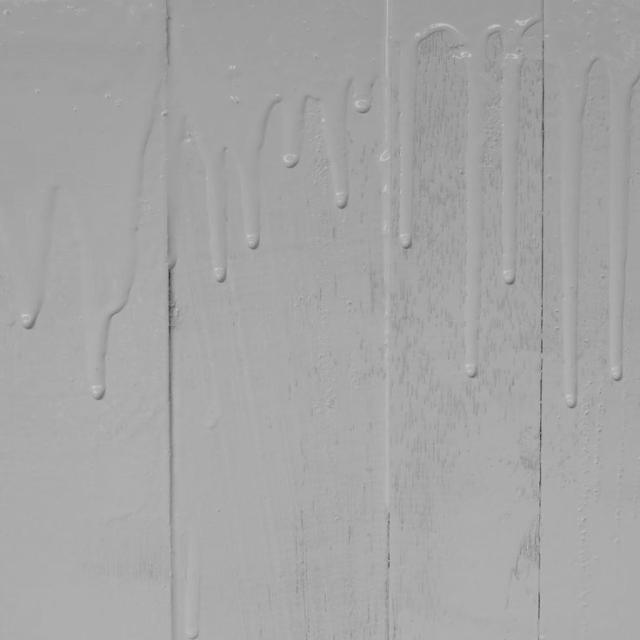paint drips: (391, 11, 541, 384), (3, 75, 158, 432), (164, 58, 385, 296), (544, 40, 639, 416), (174, 530, 214, 640)
